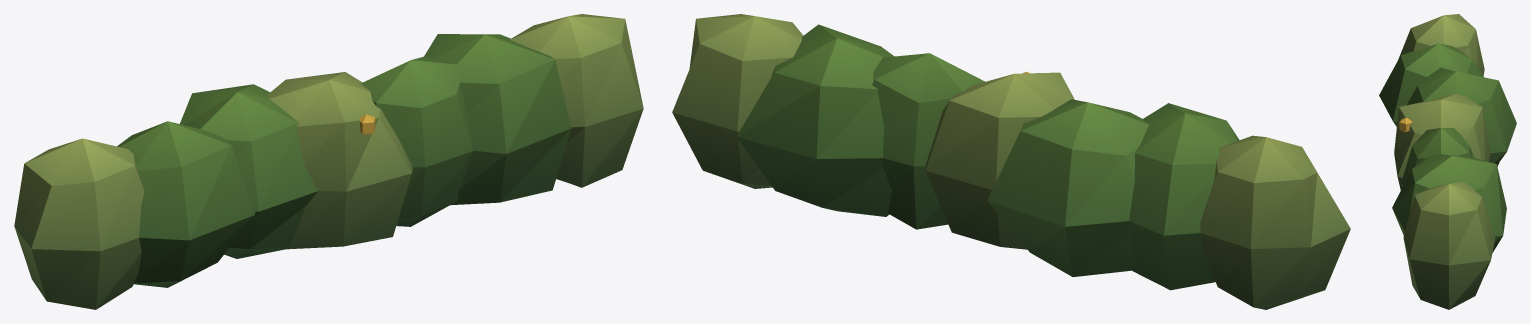
Rendered from scene_hedge_2.glb.
3 views of the same model, side by side, from view 1: azimuth 30°, elevation 25°; view 2: azimuth 150°, elevation 25°; view 3: azimuth 270°, elevation 25° (orthographic). The views are drawn at different scales.
Parts seen in each view (by area): view 1: scene_hedge_2; view 2: scene_hedge_2; view 3: scene_hedge_2.
Part boxes in pixels (bbox=[...]): scene_hedge_2: bbox=[14, 14, 643, 309]; scene_hedge_2: bbox=[672, 14, 1350, 309]; scene_hedge_2: bbox=[1379, 14, 1516, 309].
Size of the model in its own units: 4.35 by 1.12 by 1.18.
